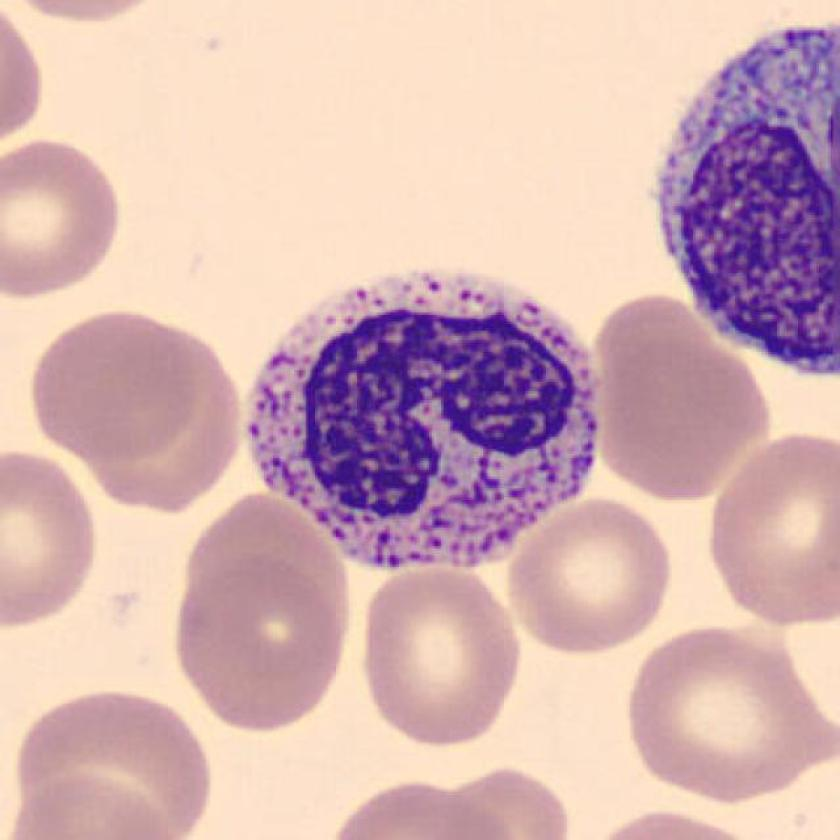neutrophil: (249, 276, 603, 570)
